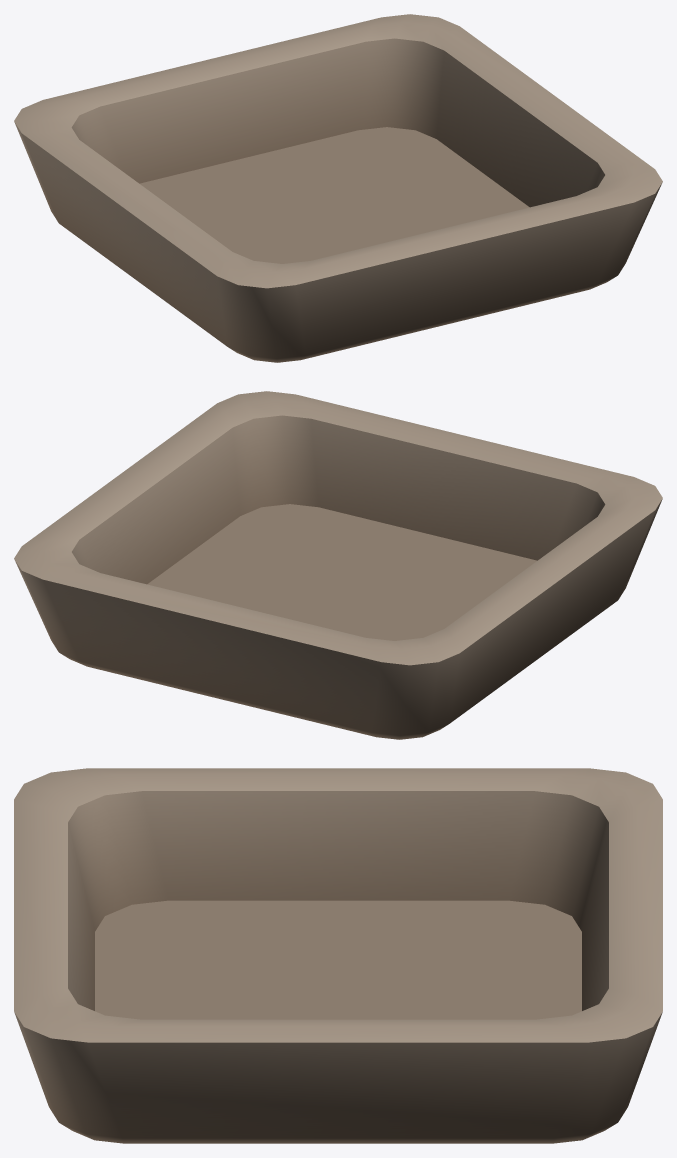
File: container-a.glb
The picture shows the model from 3 angles, top to bottom: view 1: azimuth 30°, elevation 25°; view 2: azimuth 150°, elevation 25°; view 3: azimuth 270°, elevation 25°; orthographic projection. The views are drawn at different scales.
Parts seen in each view (by area): view 1: container_A; view 2: container_A; view 3: container_A.
Part boxes in pixels (left/top/right/bottom): container_A: left=14, top=14, right=662, bottom=362; container_A: left=14, top=391, right=662, bottom=739; container_A: left=14, top=768, right=662, bottom=1143.
Size of the model in its own units: 2.4 by 0.52 by 2.4.
Materials: 1 (1 with a texture image).
